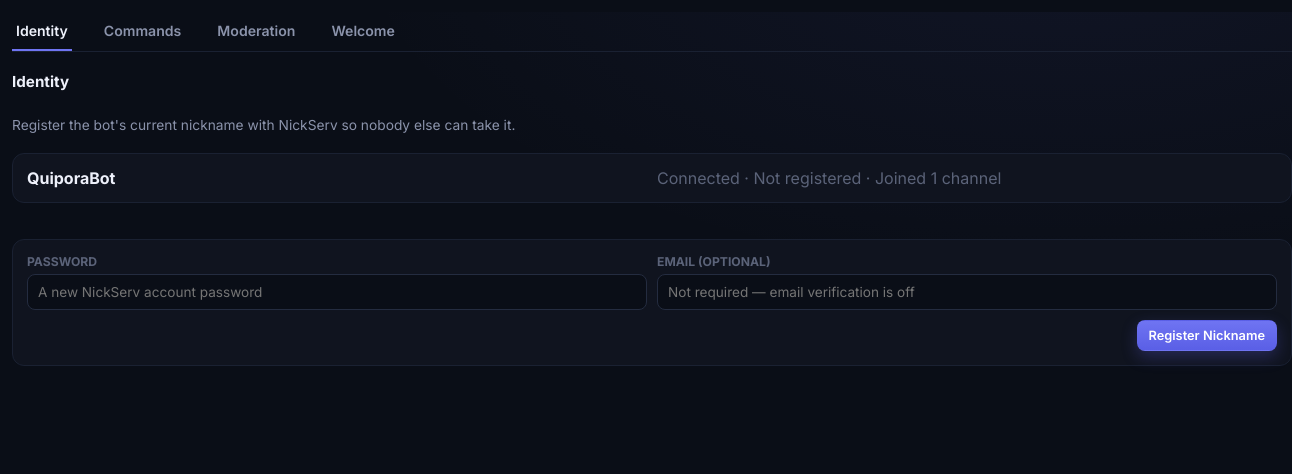
Test: IrcBotSettingsPanel › registering a nickname posts the password and shows the result
Expected: the text "QuiporaBot" is shown, [27,168,116,188]
Type "hunter2" into the password field with placeholder "A new NickServ account password" at (337, 292), box [27,274,647,310]
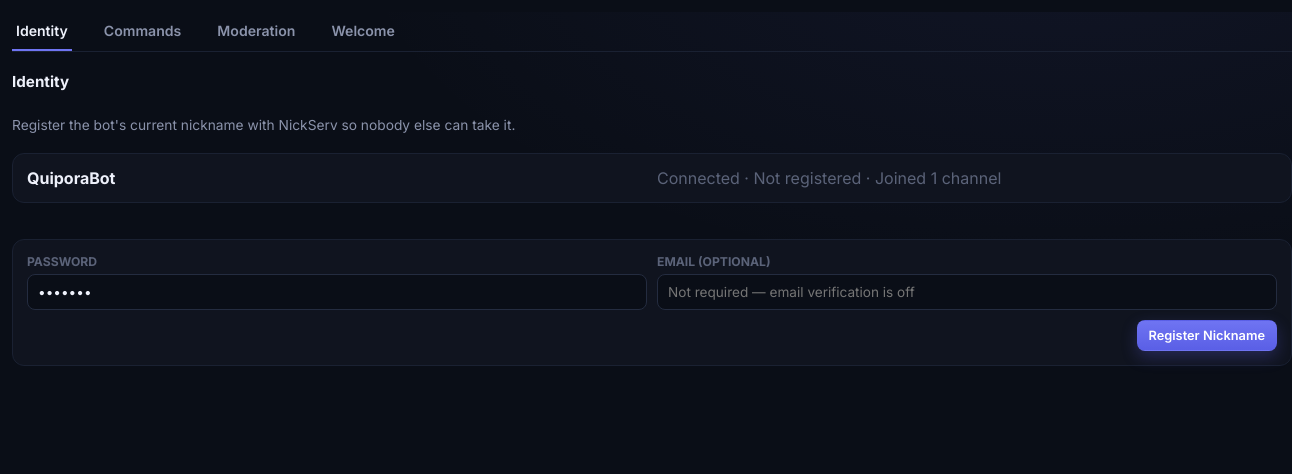
Click the button "Register Nickname" at (1207, 336), box [1136,320,1277,351]
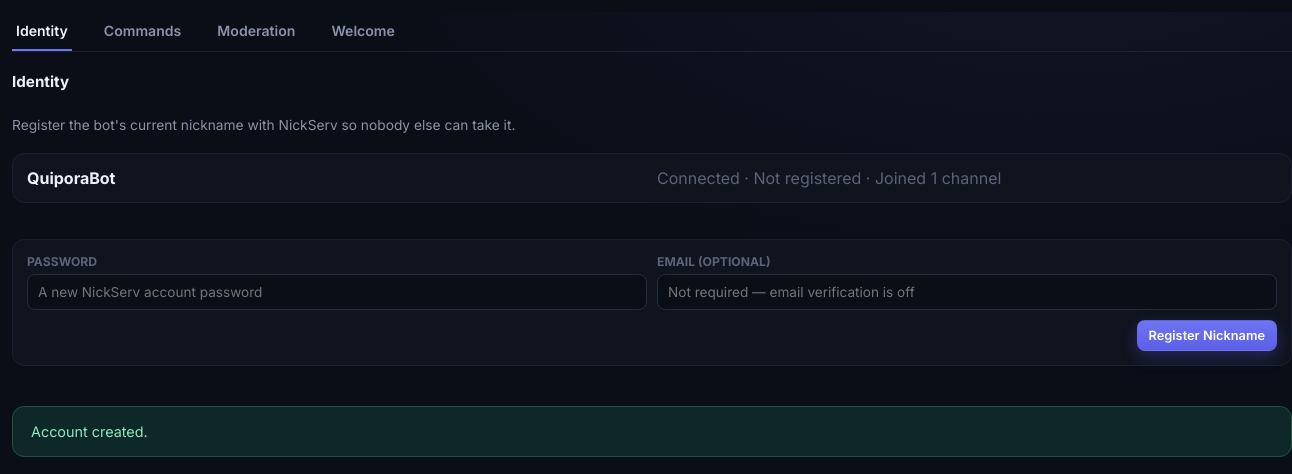
Result: the text "Account created." is shown at [12,406,1291,457]
